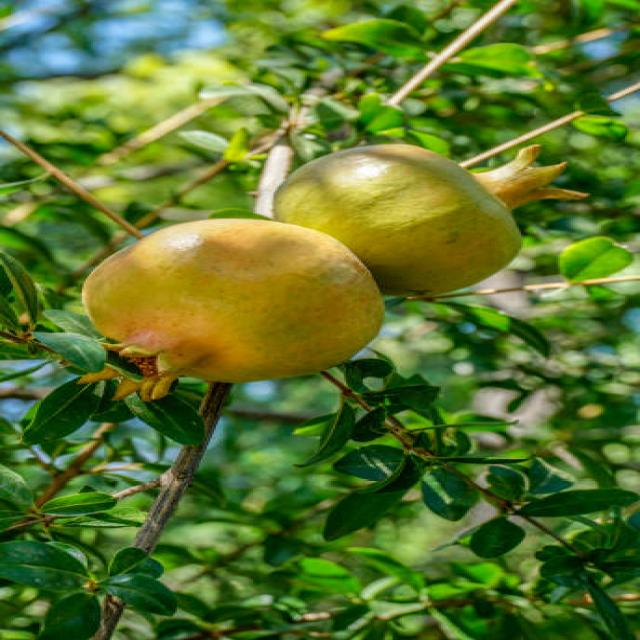Unripe: (84, 217, 380, 402), (263, 147, 596, 291)
